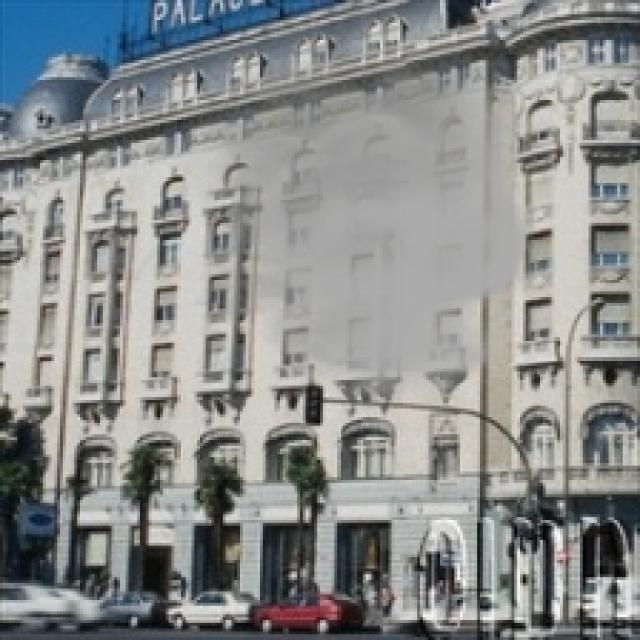Smoke: (157, 39, 534, 412)
